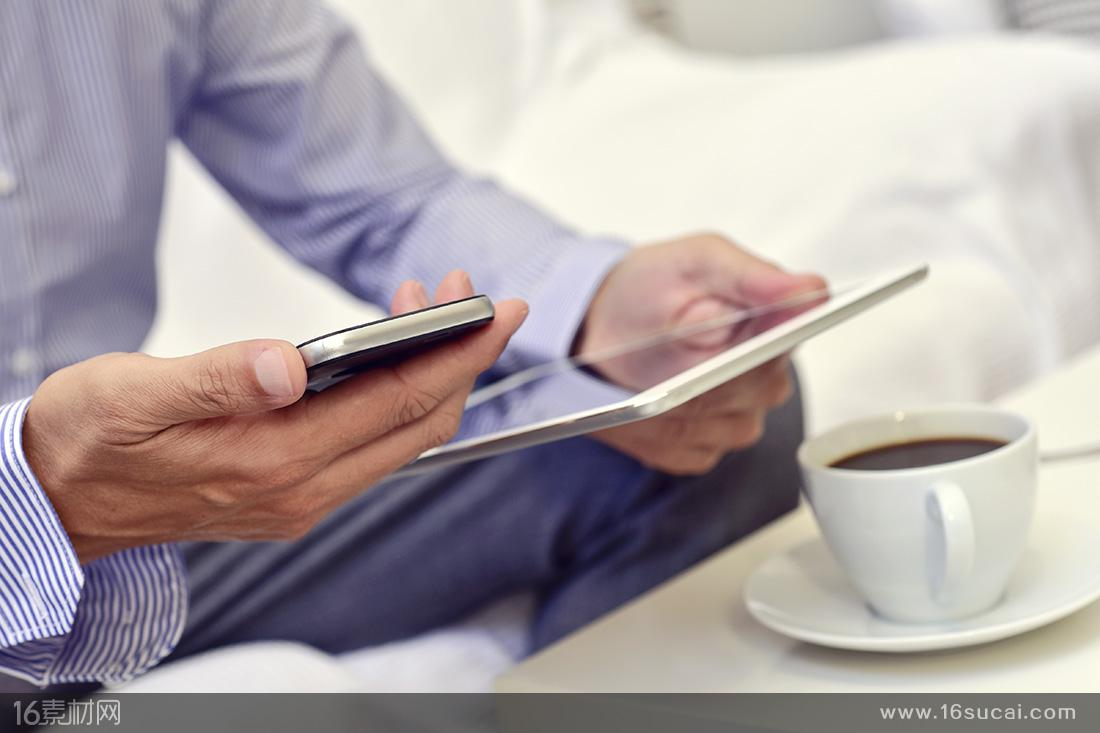pad: (388, 226, 938, 506)
phone: (43, 265, 536, 574)
